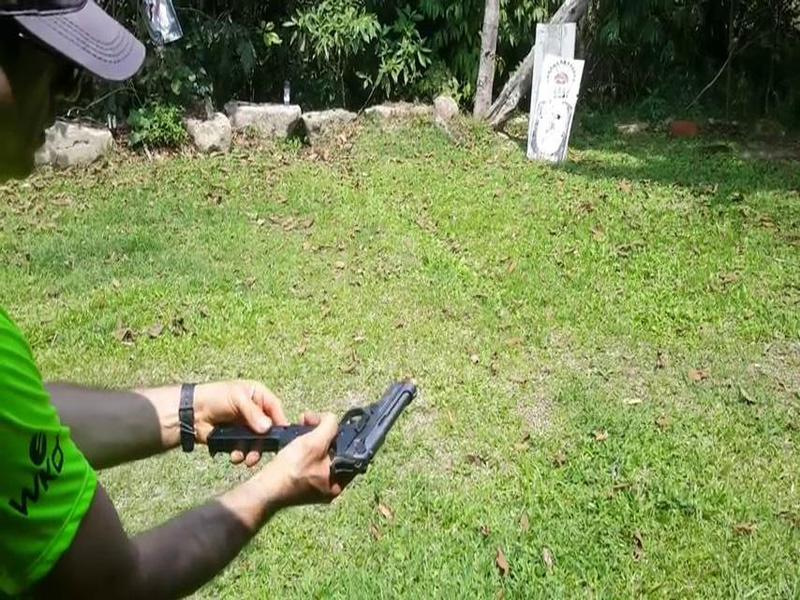Pistola: (282, 368, 417, 509)
